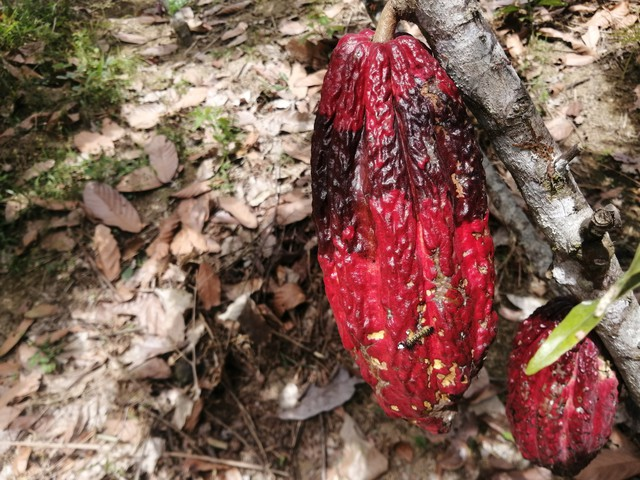phytophthora palmivora: (287, 16, 512, 444), (490, 294, 630, 480)
